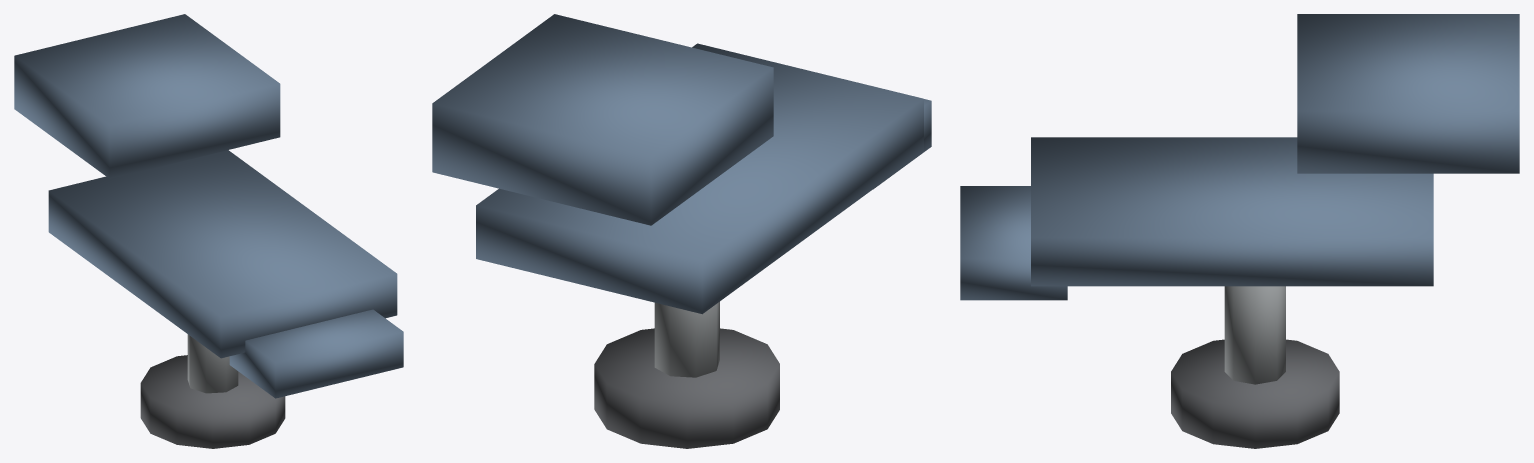
Rendered from dentist_chair.glb.
3 views of the same model, side by side, from view 1: azimuth 30°, elevation 25°; view 2: azimuth 150°, elevation 25°; view 3: azimuth 270°, elevation 25° (orthographic). The views are drawn at different scales.
Visible parts, largest first — view 1: world; view 2: world; view 3: world.
Boxes of the visible parts, box(x1,y1,x2,y2) form: world: box(14, 14, 403, 448); world: box(432, 14, 931, 448); world: box(960, 14, 1519, 448).
Bounding box in the file's own units: 0.62 × 1.01 × 1.46.
